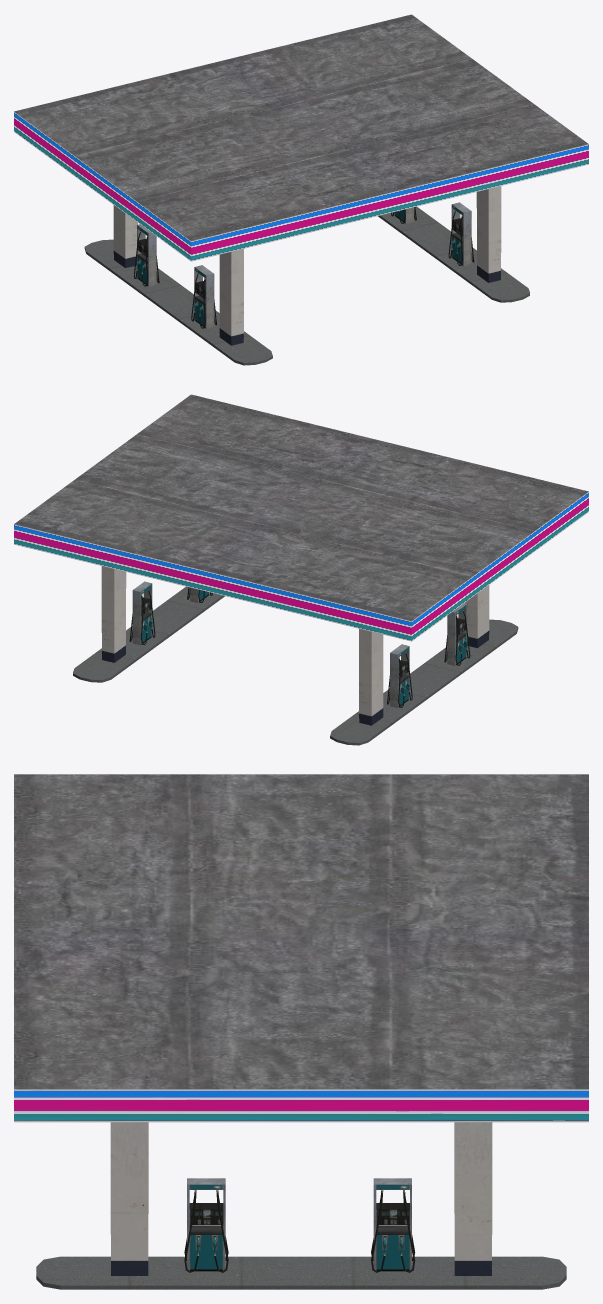
The model's file is gas_canopy.glb.
The picture shows the model from 3 angles, top to bottom: view 1: azimuth 30°, elevation 25°; view 2: azimuth 150°, elevation 25°; view 3: azimuth 270°, elevation 25°; orthographic projection. The views are drawn at different scales.
Parts seen in each view (by area): view 1: The_ceiling, Sidewalk_01, Pillar_01, Sidewalk, Pillar, Fuel_pump, Fuel_pump_02, Fuel_pump_03; view 2: The_ceiling, Sidewalk_01, Pillar_01, Sidewalk, Pillar, Fuel_pump_01, Fuel_pump_03, Fuel_pump_02; view 3: The_ceiling, Sidewalk, Pillar, Fuel_pump, Fuel_pump_01.
Boxes of the visible parts, x1=… form: The_ceiling: x1=14, y1=14, x2=588, y2=261; Sidewalk_01: x1=84, y1=239, x2=272, y2=365; Pillar_01: x1=113, y1=205, x2=243, y2=345; Sidewalk: x1=378, y1=206, x2=529, y2=302; Pillar: x1=476, y1=186, x2=501, y2=282; Fuel_pump: x1=448, y1=202, x2=474, y2=266; Fuel_pump_02: x1=191, y1=265, x2=216, y2=328; Fuel_pump_03: x1=133, y1=224, x2=159, y2=286; The_ceiling: x1=14, y1=394, x2=588, y2=641; Sidewalk_01: x1=330, y1=619, x2=518, y2=745; Pillar_01: x1=359, y1=585, x2=489, y2=725; Sidewalk: x1=73, y1=586, x2=224, y2=682; Pillar: x1=101, y1=566, x2=126, y2=662; Fuel_pump_01: x1=129, y1=581, x2=155, y2=645; Fuel_pump_03: x1=387, y1=644, x2=412, y2=707; Fuel_pump_02: x1=444, y1=603, x2=470, y2=665; The_ceiling: x1=14, y1=774, x2=588, y2=1122; Sidewalk: x1=36, y1=1256, x2=566, y2=1289; Pillar: x1=110, y1=1122, x2=492, y2=1275; Fuel_pump: x1=184, y1=1178, x2=228, y2=1272; Fuel_pump_01: x1=371, y1=1178, x2=415, y2=1272.
Size of the model in its own units: 21.67 by 7.6 by 16.73.
Materials: 7 (7 with a texture image).
